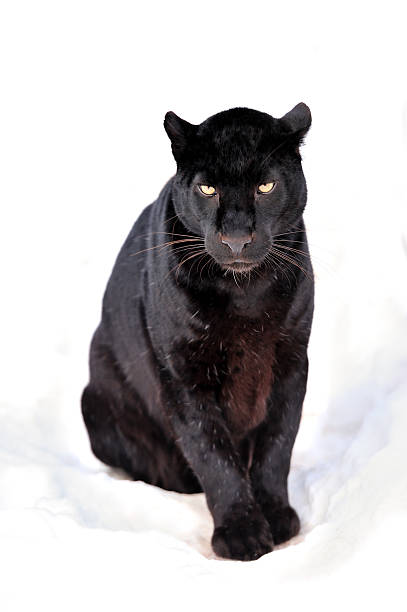panther: (138, 88, 351, 306)
